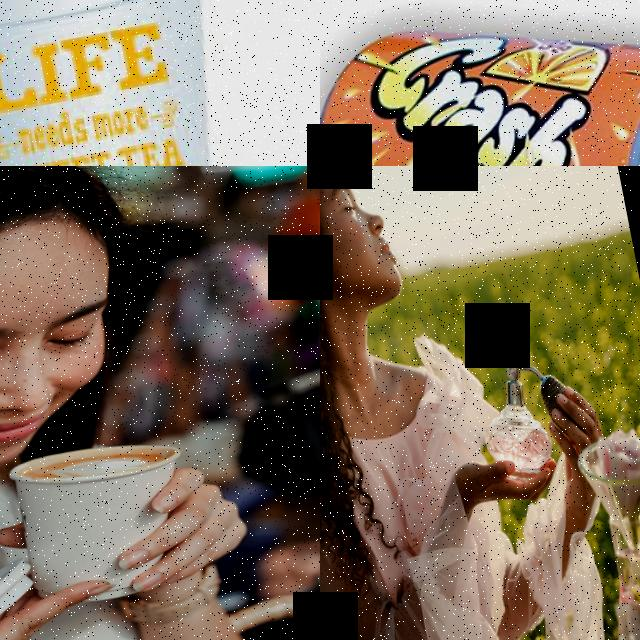can: (320, 0, 640, 166)
cup: (0, 0, 292, 166), (2, 430, 205, 618)
